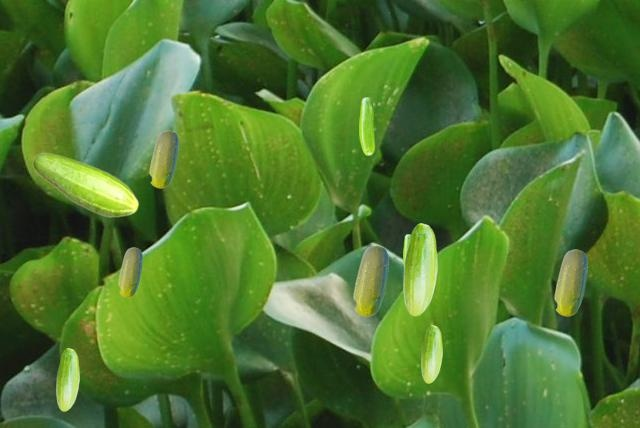cucumber: (32, 152, 138, 217), (403, 223, 436, 315), (353, 245, 387, 315), (554, 249, 586, 315), (149, 130, 177, 187), (56, 348, 78, 410), (421, 325, 441, 382), (118, 247, 141, 296), (359, 97, 373, 154), (403, 234, 410, 266)
